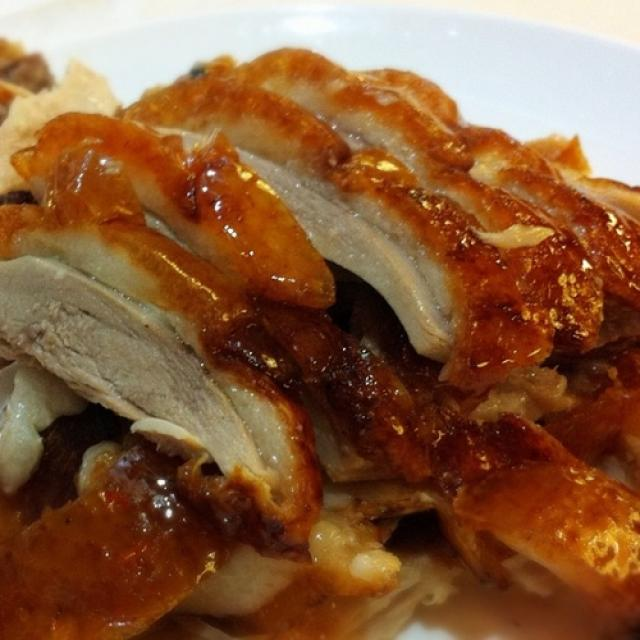烧串烤肉: (8, 16, 623, 624)
